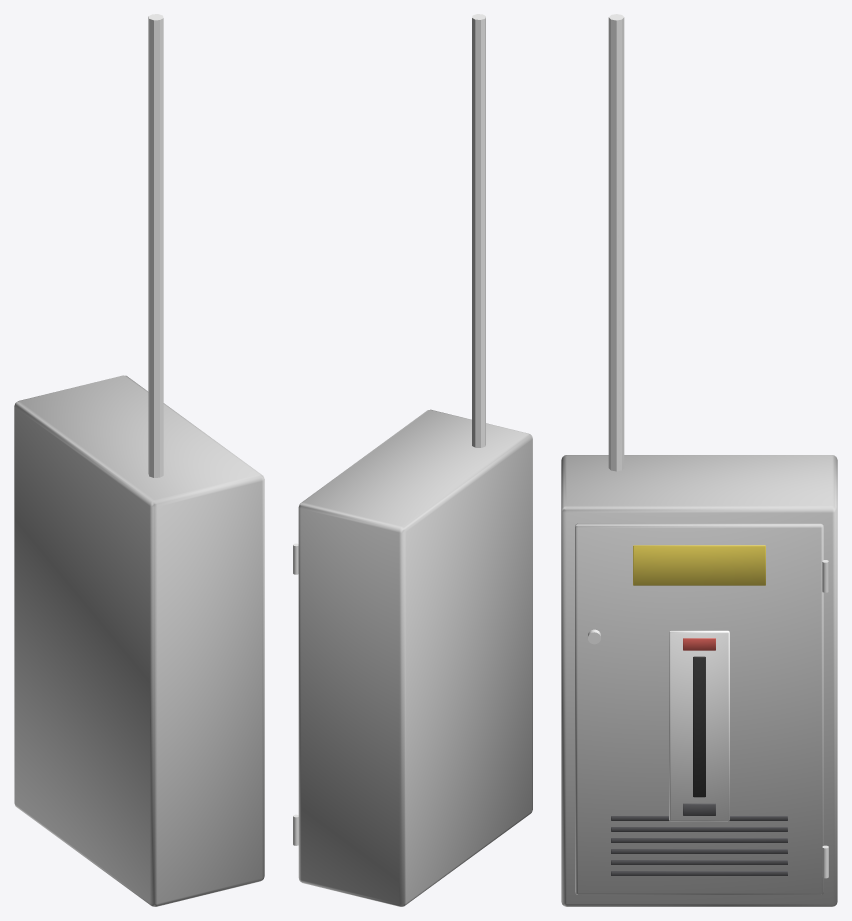
File: Train_Breaker.fbx
3 views of the same model, side by side, from view 1: azimuth 30°, elevation 25°; view 2: azimuth 150°, elevation 25°; view 3: azimuth 270°, elevation 25° (orthographic). The views are drawn at different scales.
Visible parts, largest first — view 1: Train_Breaker; view 2: Train_Breaker; view 3: Train_Breaker.
Part boxes in pixels (left/top/right/bottom): Train_Breaker: left=14, top=14, right=264, bottom=906; Train_Breaker: left=293, top=14, right=532, bottom=906; Train_Breaker: left=561, top=14, right=837, bottom=906.
Bounding box in the file's own units: 0.257 × 1.7 × 0.5.
